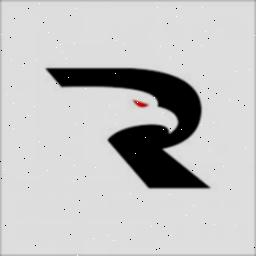r: (37, 55, 215, 205)
